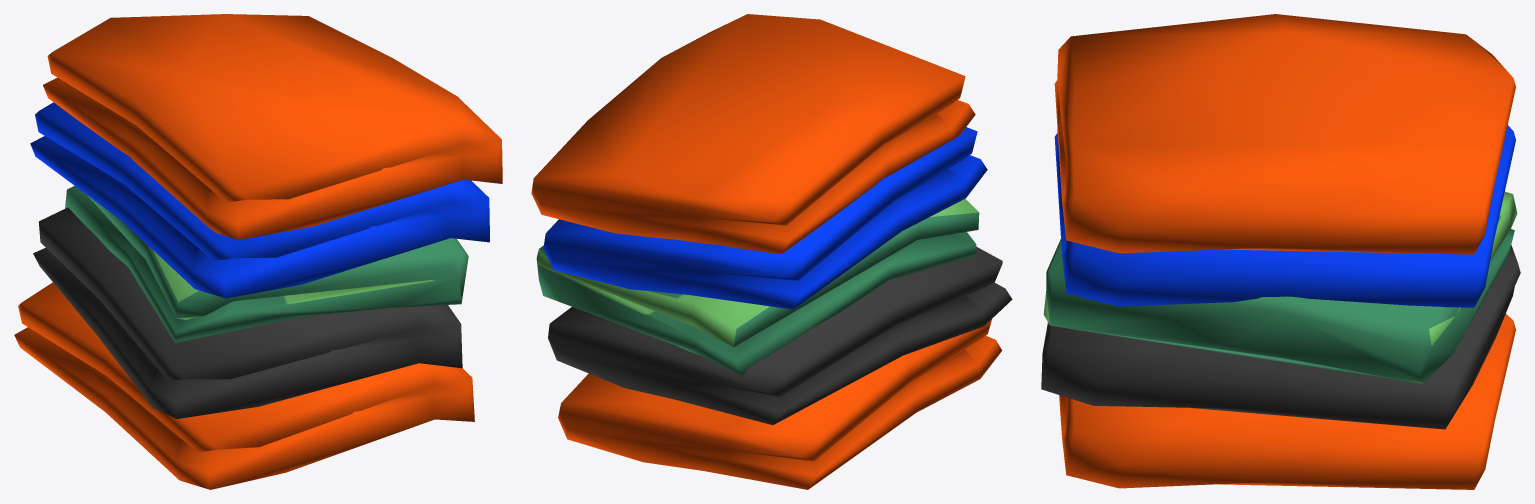
Rendered from TowelsMontain.FBX.
3 views of the same model, side by side, from view 1: azimuth 30°, elevation 25°; view 2: azimuth 150°, elevation 25°; view 3: azimuth 270°, elevation 25° (orthographic). The views are drawn at different scales.
Parts seen in each view (by area): view 1: TowelsMontain; view 2: TowelsMontain; view 3: TowelsMontain.
Part boxes in pixels (left/top/right/bottom): TowelsMontain: left=14, top=14, right=502, bottom=489; TowelsMontain: left=531, top=14, right=1012, bottom=489; TowelsMontain: left=1041, top=14, right=1520, bottom=489.
Bounding box in the file's own units: 2.27 × 2.09 × 2.53.
